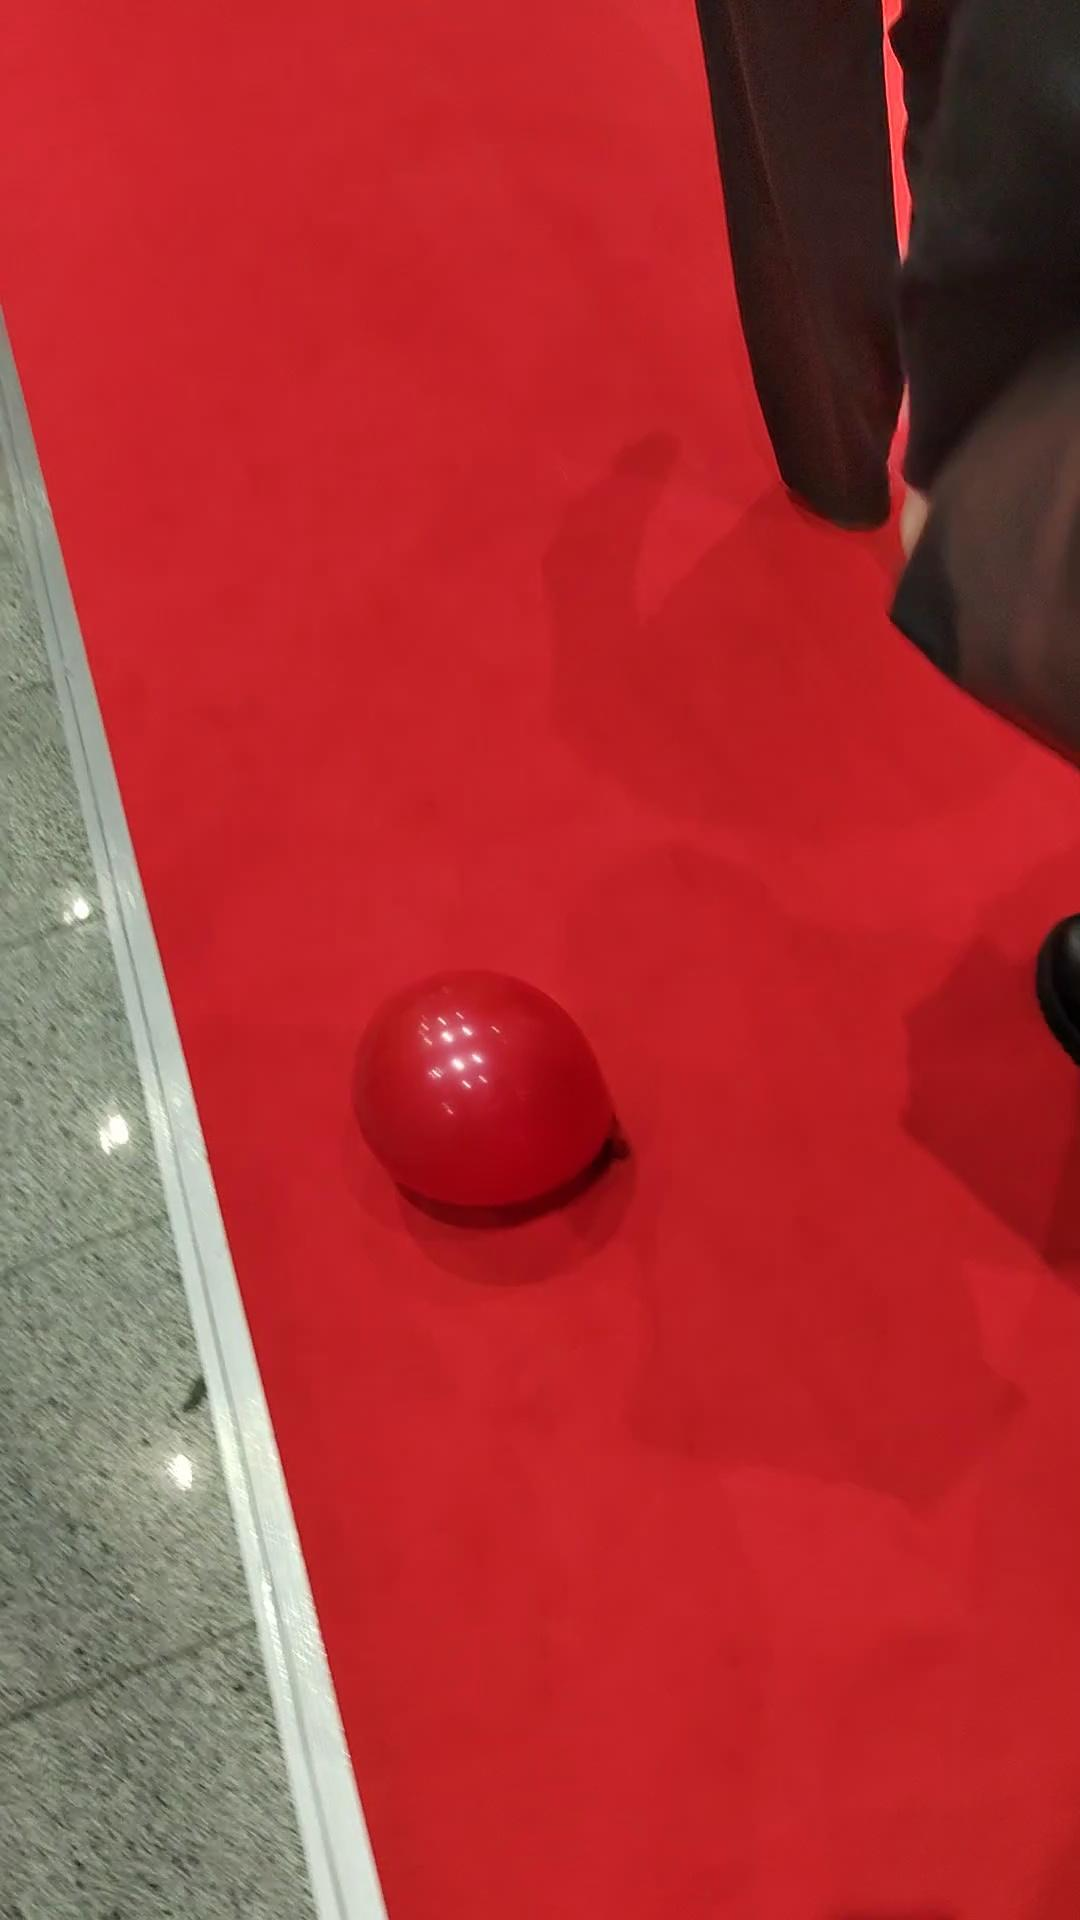red: (353, 968, 615, 1211)
